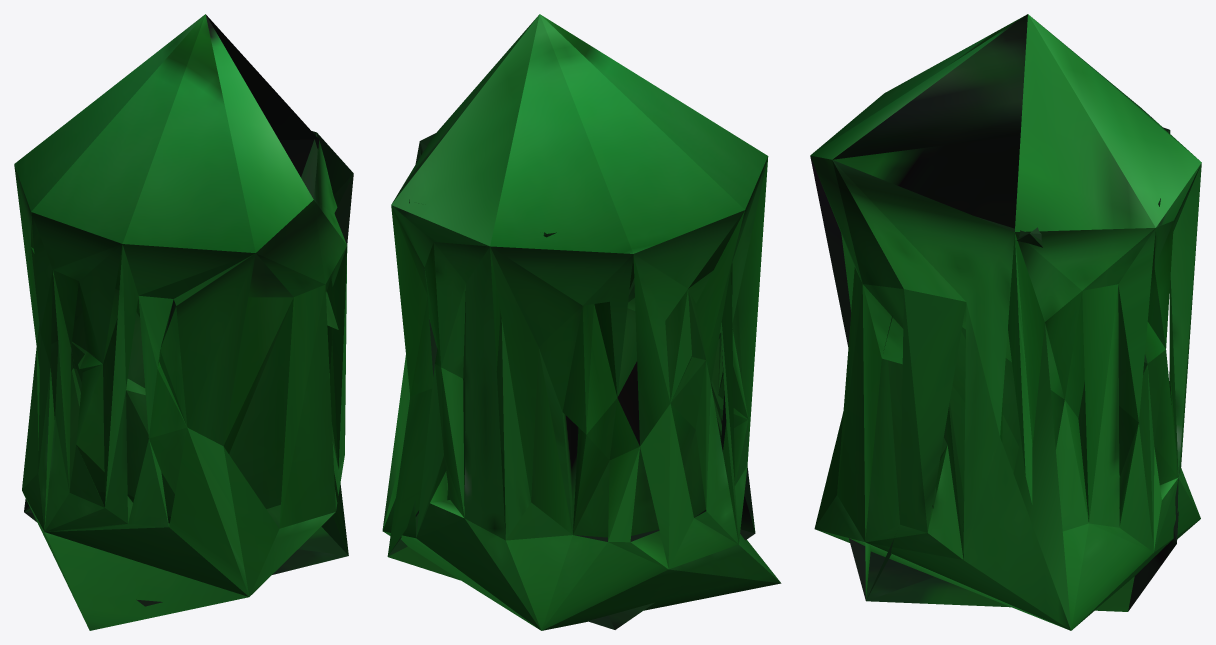
File: trash_can.glb
3 renders of one model, left to right at view 1: azimuth 30°, elevation 25°; view 2: azimuth 150°, elevation 25°; view 3: azimuth 270°, elevation 25°, orthographic. The views are drawn at different scales.
Parts seen in each view (by area): view 1: geometry_0; view 2: geometry_0; view 3: geometry_0.
Part boxes in pixels (<box>): geometry_0: <box>14,14,353,630</box>; geometry_0: <box>382,14,781,630</box>; geometry_0: <box>810,14,1201,630</box>.
Bounding box in the file's own units: 0.6091 × 0.9974 × 0.6073.
Materials: 1 (1 with a texture image).
